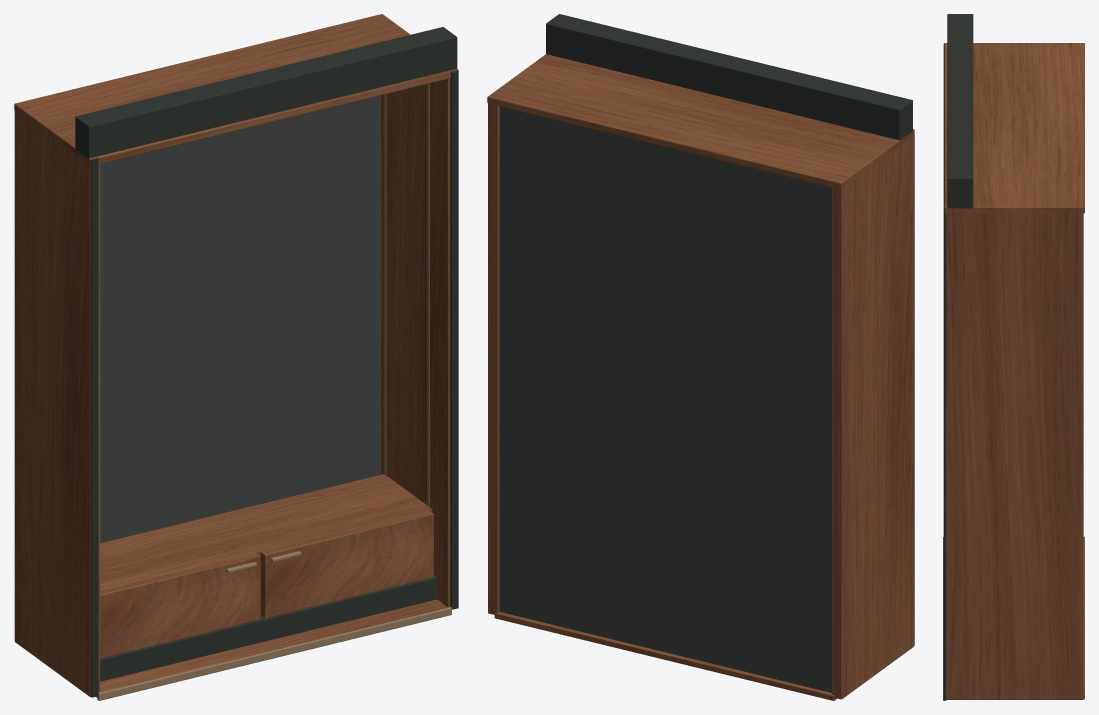
The model's file is box-set-casework.glb.
The picture shows the model from 3 angles, left to right: view 1: azimuth 30°, elevation 25°; view 2: azimuth 150°, elevation 25°; view 3: azimuth 270°, elevation 25°; orthographic projection. The views are drawn at different scales.
Parts seen in each view (by area): view 1: Carcass M08 Graphite suede, Carcass M03 Walnut veneer, Plinth M03 Walnut veneer, Carcass M06 Oxidised rail, Plinth M06 Oxidised rail, Deck M03 Walnut veneer, Deck Routed champagne trim, Carcass Routed champagne trim; view 2: Carcass M08 Graphite suede, Carcass M03 Walnut veneer, Carcass M06 Oxidised rail, Deck M03 Walnut veneer; view 3: Carcass M03 Walnut veneer, Carcass M06 Oxidised rail, Deck M03 Walnut veneer.
Part boxes in pixels (x1,y1,x2,y2): Carcass M08 Graphite suede: [100, 95, 380, 543]; Carcass M03 Walnut veneer: [14, 14, 458, 696]; Plinth M03 Walnut veneer: [100, 474, 433, 658]; Carcass M06 Oxidised rail: [75, 27, 458, 697]; Plinth M06 Oxidised rail: [100, 575, 437, 681]; Deck M03 Walnut veneer: [96, 599, 450, 697]; Deck Routed champagne trim: [97, 607, 451, 700]; Carcass Routed champagne trim: [384, 83, 429, 506]; Carcass M08 Graphite suede: [499, 106, 831, 692]; Carcass M03 Walnut veneer: [487, 54, 914, 699]; Carcass M06 Oxidised rail: [546, 14, 914, 645]; Deck M03 Walnut veneer: [494, 612, 836, 700]; Carcass M03 Walnut veneer: [944, 43, 1084, 699]; Carcass M06 Oxidised rail: [943, 14, 973, 699]; Deck M03 Walnut veneer: [1083, 536, 1084, 699].
Bounding box in the file's own units: 1.72 × 2.57 × 0.6265.
5 materials, 1 textured.
